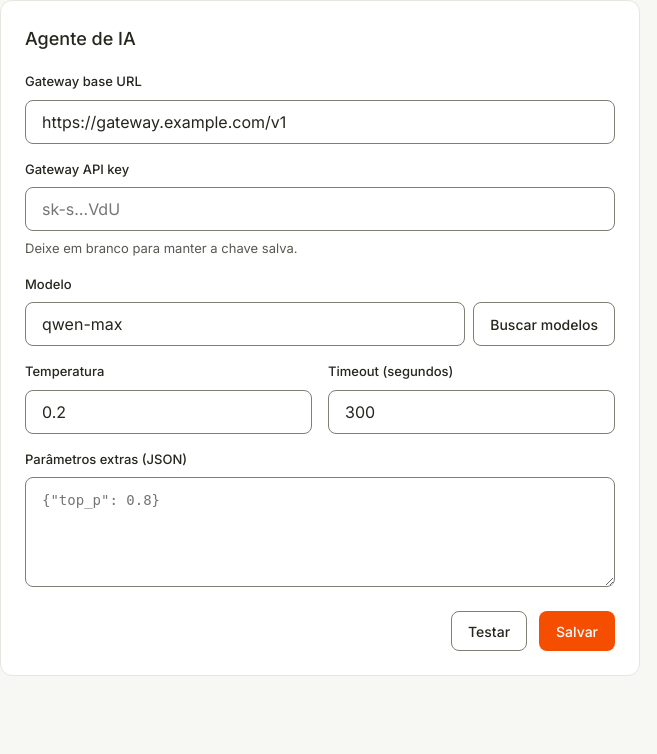
Test: AiSettingsForm: Testar › sucesso mostra latência e resposta; o corpo leva baseUrl e não leva apiKey quando vazia
The width and height of the screenshot is (657, 754).
Click the button "Testar": click(489, 631) [451,611,527,651]
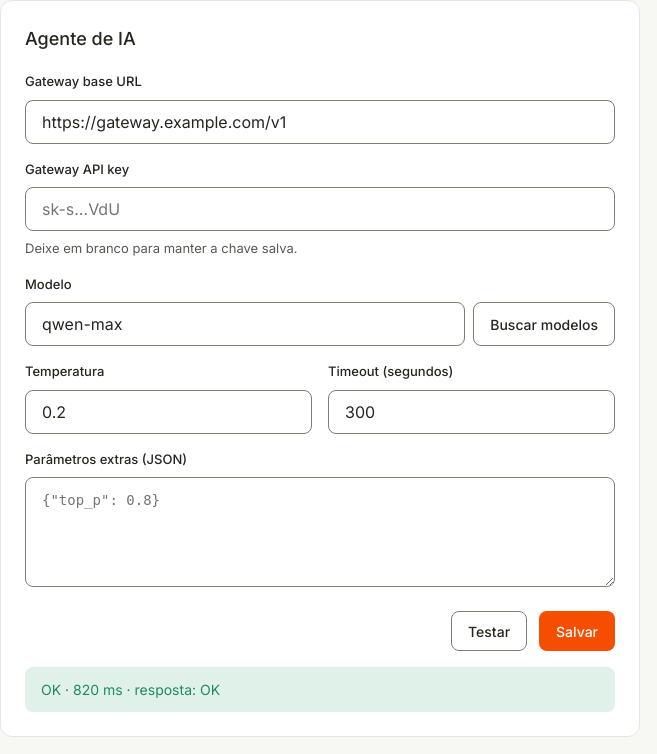
Now the message "OK · 820 ms · resposta: OK" is shown, box [25,667,615,712]
